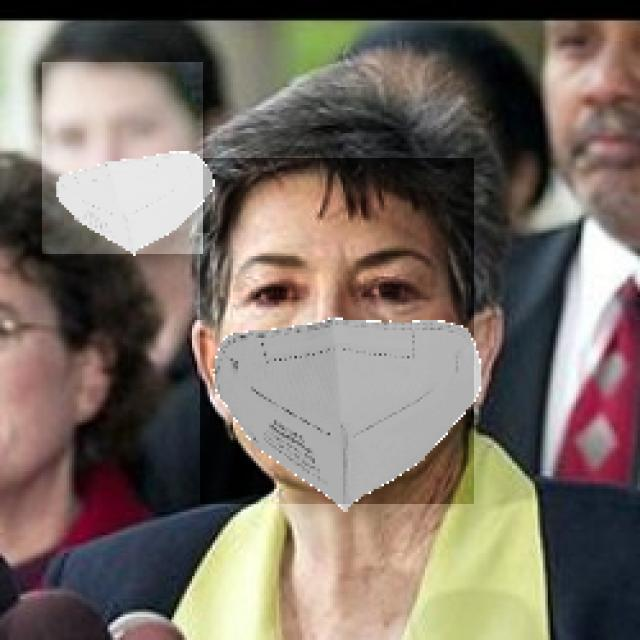kn95: (200, 158, 474, 504), (42, 62, 203, 254)
